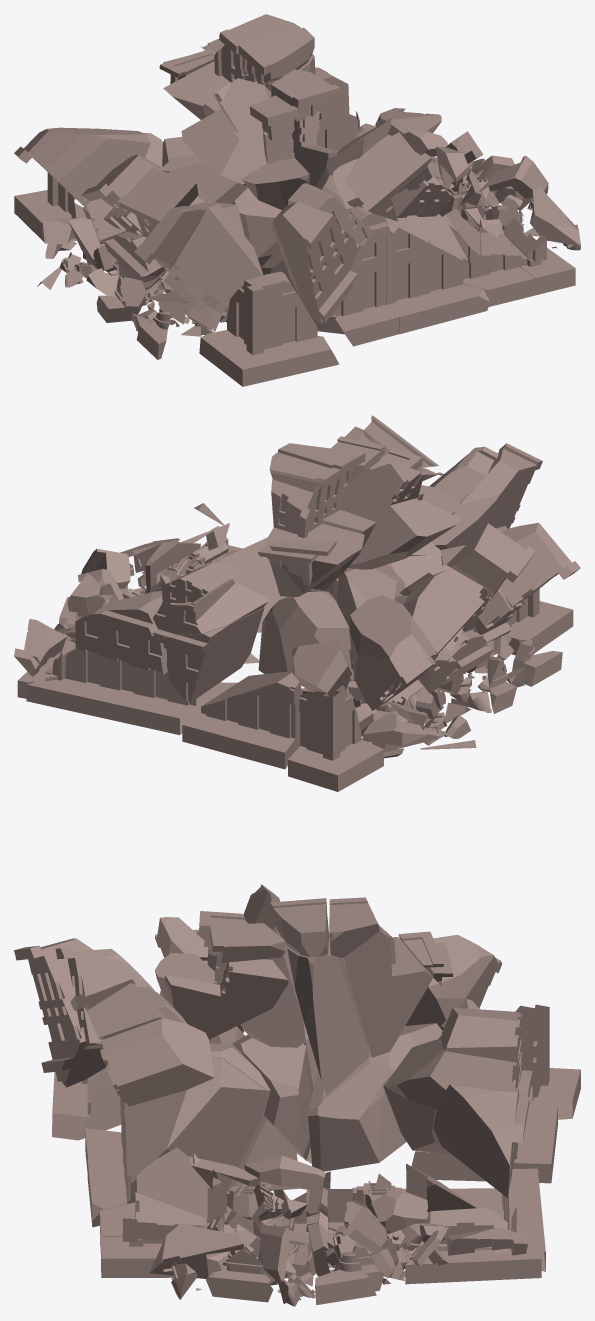
File: fire-station-broken-gray.fbx
3 views of the same model, one above another, from view 1: azimuth 30°, elevation 25°; view 2: azimuth 150°, elevation 25°; view 3: azimuth 270°, elevation 25° (orthographic). The views are drawn at different scales.
Parts seen in each view (by area): view 1: Fire_Station_cell.073, Fire_Station_cell.143, Fire_Station_cell.085, Fire_Station_cell.012, Fire_Station_cell.165, Fire_Station_cell.084, Fire_Station_cell.019, Fire_Station_cell.155, Fire_Station_cell.026, Fire_Station_cell.110, Fire_Station_cell.056, Fire_Station_cell.087 (+40 smaller); view 2: Fire_Station_cell.178, Fire_Station_cell.133, Fire_Station_cell.012, Fire_Station_cell.165, Fire_Station_cell.186, Fire_Station_cell.113, Fire_Station_cell.057, Fire_Station_cell.199, Fire_Station_cell.090, Fire_Station_cell.085, Fire_Station_cell.002, Fire_Station_cell.087 (+33 smaller); view 3: Fire_Station_cell.143, Fire_Station_cell.090, Fire_Station_cell.057, Fire_Station_cell.156, Fire_Station_cell.005, Fire_Station_cell.113, Fire_Station_cell.096, Fire_Station_cell.085, Fire_Station_cell.108, Fire_Station_cell.043, Fire_Station_cell.165, Fire_Station_cell.186 (+42 smaller).
Boxes of the visible parts, x1,y1,x2,y2 form: Fire_Station_cell.073: [199, 271, 339, 386]; Fire_Station_cell.143: [385, 214, 490, 333]; Fire_Station_cell.085: [271, 201, 360, 324]; Fire_Station_cell.012: [181, 78, 271, 186]; Fire_Station_cell.165: [14, 127, 150, 226]; Fire_Station_cell.084: [174, 203, 263, 314]; Fire_Station_cell.019: [322, 175, 399, 346]; Fire_Station_cell.155: [345, 135, 431, 211]; Fire_Station_cell.026: [463, 227, 535, 306]; Fire_Station_cell.110: [241, 125, 309, 209]; Fire_Station_cell.056: [239, 27, 314, 83]; Fire_Station_cell.087: [117, 167, 198, 229]; Fire_Station_cell.178: [26, 649, 237, 734]; Fire_Station_cell.133: [182, 672, 302, 769]; Fire_Station_cell.012: [340, 463, 460, 569]; Fire_Station_cell.165: [349, 594, 438, 710]; Fire_Station_cell.186: [288, 685, 383, 791]; Fire_Station_cell.113: [266, 479, 364, 596]; Fire_Station_cell.057: [75, 590, 167, 674]; Fire_Station_cell.199: [157, 607, 264, 702]; Fire_Station_cell.090: [258, 591, 354, 685]; Fire_Station_cell.085: [432, 443, 542, 549]; Fire_Station_cell.002: [403, 570, 484, 653]; Fire_Station_cell.087: [446, 523, 535, 601]; Fire_Station_cell.143: [87, 1057, 266, 1227]; Fire_Station_cell.090: [308, 1023, 442, 1171]; Fire_Station_cell.057: [433, 1084, 529, 1197]; Fire_Station_cell.156: [98, 1018, 214, 1106]; Fire_Station_cell.005: [287, 937, 370, 1095]; Fire_Station_cell.113: [343, 925, 432, 1057]; Fire_Station_cell.096: [164, 959, 288, 1039]; Fire_Station_cell.085: [14, 938, 106, 1087]; Fire_Station_cell.108: [385, 1039, 527, 1108]; Fire_Station_cell.043: [232, 1034, 313, 1160]; Fire_Station_cell.165: [405, 934, 501, 1030]; Fire_Station_cell.186: [515, 1004, 580, 1119].
Size of the model in its own units: 8445 by 6070 by 8030.
